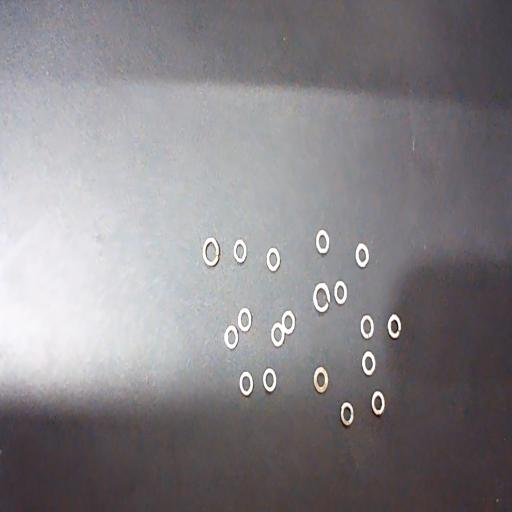washer: (313, 282, 330, 314), (203, 236, 220, 267), (313, 367, 329, 394), (266, 247, 281, 272), (239, 371, 253, 397), (281, 310, 295, 336), (355, 242, 369, 268), (233, 238, 247, 263), (238, 308, 252, 333), (271, 323, 285, 348), (340, 402, 354, 427), (387, 314, 401, 339), (263, 368, 276, 394), (334, 280, 347, 306), (224, 326, 238, 350), (371, 392, 385, 416), (316, 230, 329, 254), (360, 315, 373, 339), (362, 352, 375, 376)
